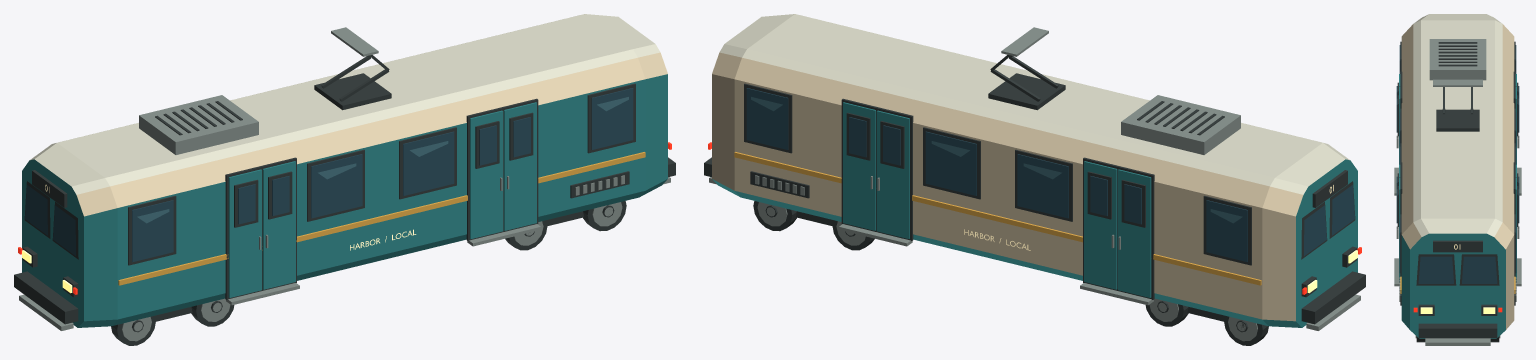
The model's file is T01_Harbor_Local.fbx.
3 views of the same model, side by side, from view 1: azimuth 30°, elevation 25°; view 2: azimuth 150°, elevation 25°; view 3: azimuth 270°, elevation 25° (orthographic). The views are drawn at different scales.
Parts seen in each view (by area): view 1: T01_Harbor_Local_Root_Mesh, Pivot_Pantograph_Mesh, Pivot_Bogie_Mesh, Pivot_Bogie.001_Mesh; view 2: T01_Harbor_Local_Root_Mesh, Pivot_Pantograph_Mesh, Pivot_Bogie_Mesh, Pivot_Bogie.001_Mesh; view 3: T01_Harbor_Local_Root_Mesh, Pivot_Pantograph_Mesh.
Boxes of the visible parts, x1,y1,x2,y2 form: T01_Harbor_Local_Root_Mesh: (14,14,675,330); Pivot_Pantograph_Mesh: (314,27,391,110); Pivot_Bogie_Mesh: (111,298,234,345); Pivot_Bogie.001_Mesh: (505,201,626,250); T01_Harbor_Local_Root_Mesh: (704,14,1365,330); Pivot_Pantograph_Mesh: (988,27,1065,110); Pivot_Bogie_Mesh: (1145,298,1268,345); Pivot_Bogie.001_Mesh: (753,201,874,250); T01_Harbor_Local_Root_Mesh: (1394,14,1521,345); Pivot_Pantograph_Mesh: (1433,79,1482,131).
Size of the model in its own units: 11.29 by 3.98 by 2.65.
